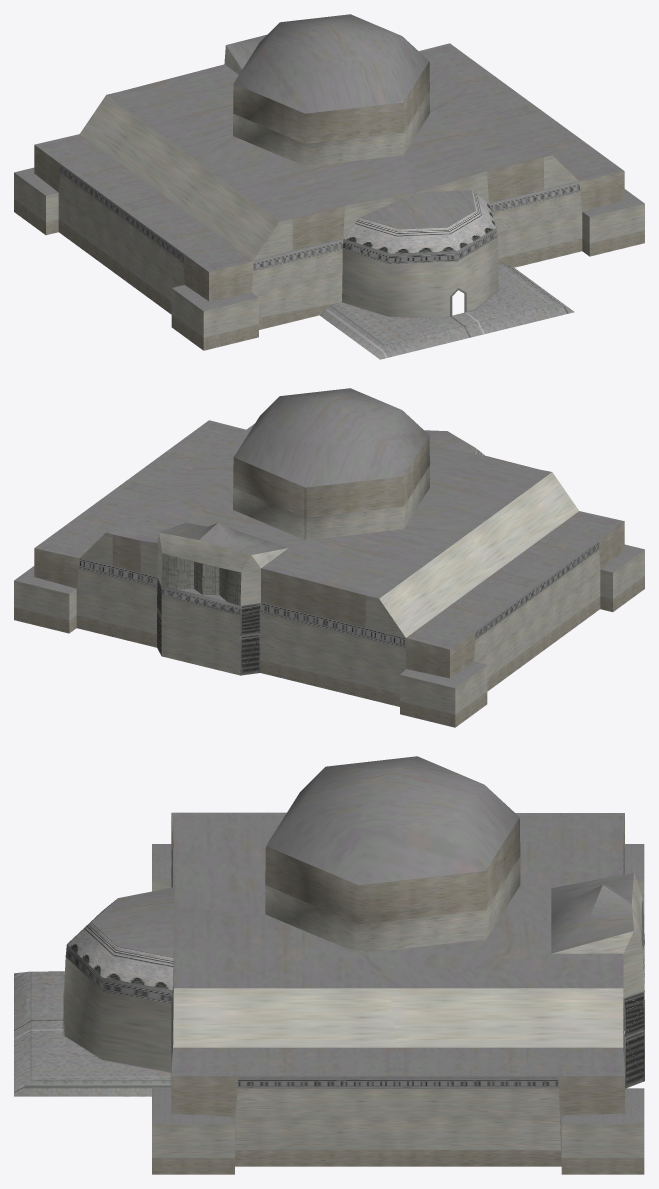
The model's file is mun_all_hotel_s01_r0_hotel_mesh_exterior_l2.fbx.
3 views of the same model, one above another, from view 1: azimuth 30°, elevation 25°; view 2: azimuth 150°, elevation 25°; view 3: azimuth 270°, elevation 25° (orthographic). The views are drawn at different scales.
Parts seen in each view (by area): view 1: mesh_node; view 2: mesh_node; view 3: mesh_node.
Part boxes in pixels (left/top/right/bottom): mesh_node: left=14, top=14, right=644, bottom=359; mesh_node: left=14, top=388, right=644, bottom=727; mesh_node: left=14, top=756, right=644, bottom=1174.
Bounding box in the file's own units: 59.56 × 26.07 × 56.85.
1 material, 1 textured.
